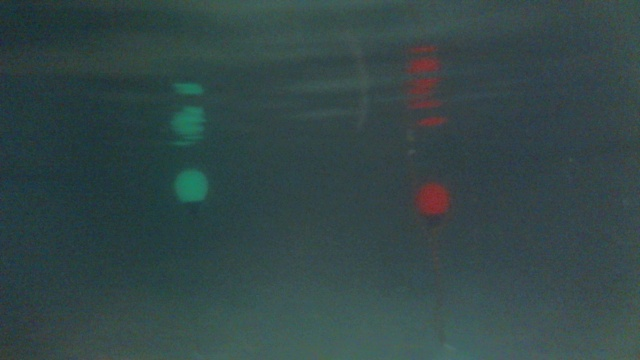buoy_green: (172, 166, 210, 218)
buoy_red: (416, 181, 451, 229)
